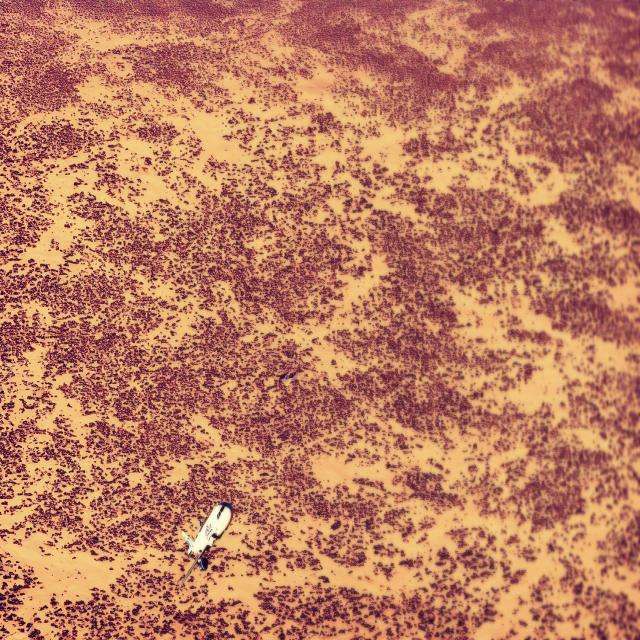airplane: (178, 501, 233, 588)
